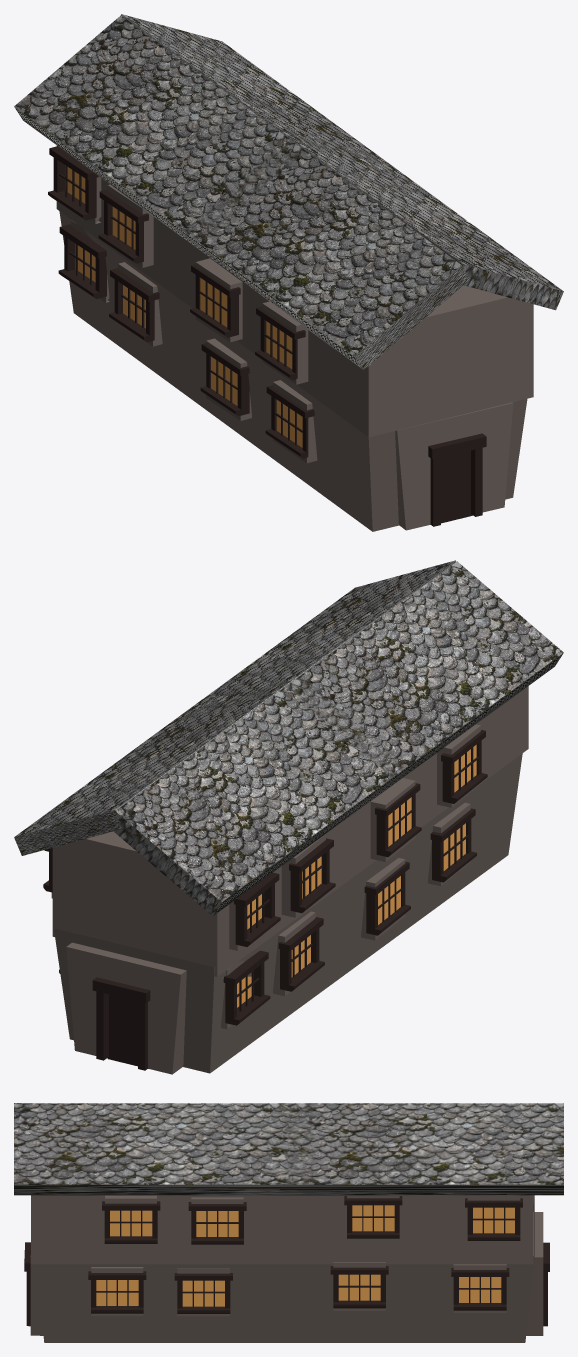
Rendered from tavern.glb.
The picture shows the model from 3 angles, top to bottom: view 1: azimuth 30°, elevation 25°; view 2: azimuth 150°, elevation 25°; view 3: azimuth 270°, elevation 25°; orthographic projection. The views are drawn at different scales.
Visible parts, largest first — view 1: roof, exterior; view 2: roof, exterior; view 3: exterior, roof.
Boxes of the visible parts, <box> form: roof: <box>14,14,563,370</box>; exterior: <box>48,145,533,531</box>; roof: <box>14,560,563,915</box>; exterior: <box>43,686,528,1074</box>; exterior: <box>24,1195,549,1342</box>; roof: <box>14,1103,563,1195</box>.
Bounding box in the file's own units: 2.32 × 2.81 × 6.55.
Materials: 4 (1 with a texture image).
